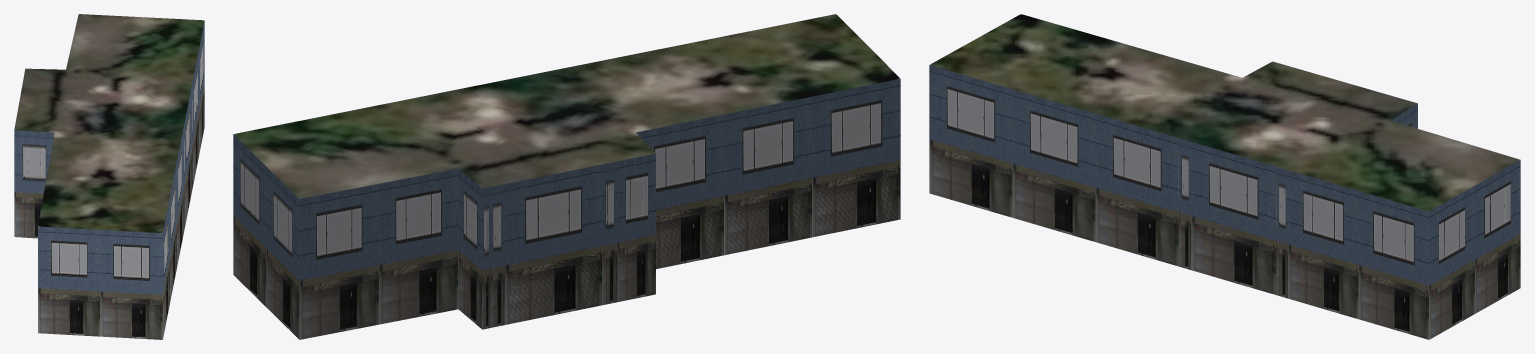
Rendered from T_1SVM24P28H.dae.
3 views of the same model, side by side, from view 1: azimuth 30°, elevation 25°; view 2: azimuth 150°, elevation 25°; view 3: azimuth 270°, elevation 25° (orthographic). The views are drawn at different scales.
Visible parts, largest first — view 1: SketchUp (×11); view 2: SketchUp (×19); view 3: SketchUp (×13).
Part boxes in pixels (x1=…): SketchUp (×11): x1=14, y1=14, x2=204, y2=339; SketchUp (×19): x1=233, y1=14, x2=900, y2=339; SketchUp (×13): x1=929, y1=14, x2=1520, y2=339.
Bounding box in the file's own units: 25.77 × 32.6 × 7.82.
3 materials, 3 textured.
